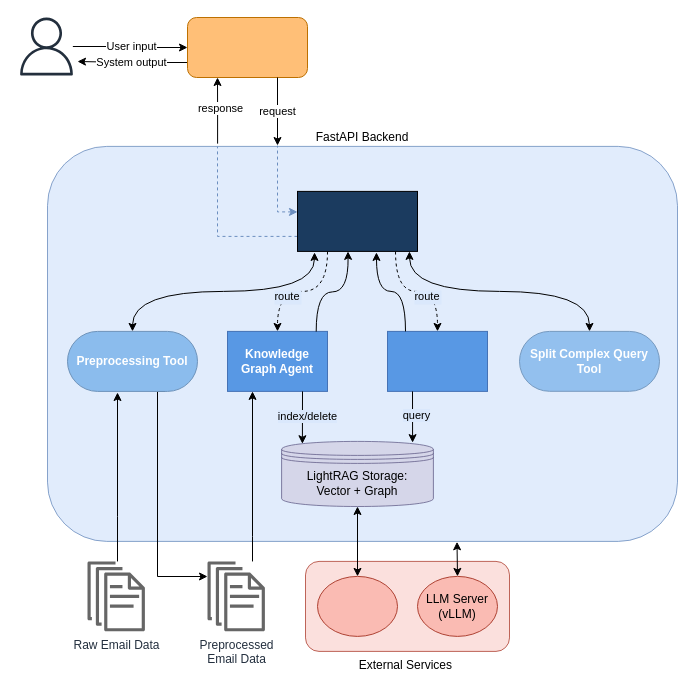
This 695x690 diagram has some shape labels left out. Here are the shapes that lost their labels. From the top down, the box of each, then its label:
(186, 16, 308, 78): Streamlit UI
(296, 190, 418, 251): Supervisor Agent
(386, 330, 488, 391): RAG Agent
(316, 575, 398, 636): Neo4j Server
